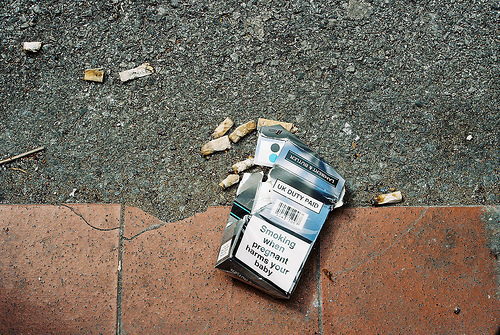litter: (217, 154, 347, 301), (255, 117, 317, 153), (199, 116, 258, 153), (118, 62, 155, 83), (370, 192, 403, 207), (83, 67, 106, 85), (23, 39, 41, 53)
